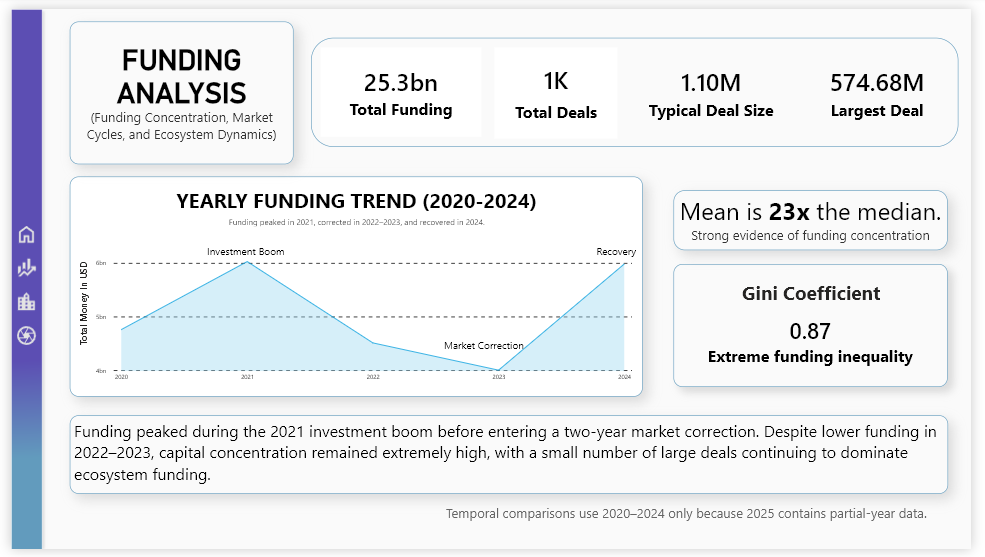

The dashboard page shown, as its layout file describes it:
{"tool":"powerbi","page":{"name":"Overview","canvas":[1280,720],"ordinal":0},"visuals":[{"type":"lineChart","title":"YEARLY FUNDING TREND (2020-2024)","fields":{"Category":["investor_funding.Date.Variation.Date Hierarchy.Year","investor_funding.Date.Variation.Date Hierarchy.Quarter","investor_funding.Date.Variation.Date Hierarchy.Month","investor_funding.Date.Variation.Date Hierarchy.Day"],"Y":["Sum(investor_funding.InvestmentAmount_USD)"]},"box":[77.5,223.8,763.8,293.8],"z":0},{"type":"cardVisual","title":"Total Deals (2020-2024)","fields":{"Data":["investor_funding.Total Deals"]},"box":[631,38.8,190,147.1],"z":1000,"group":"g1"},{"type":"textbox","box":[77.5,541.2,1171.2,105],"z":1000},{"type":"cardVisual","title":"Total Funding (2020-2024)","fields":{"Data":["investor_funding.USD"]},"box":[400,38.8,240,145.7],"z":2000,"group":"g1"},{"type":"cardVisual","title":"Gini Coefficient","fields":{"Data":["investor_funding.Gini Coefficient"]},"box":[882.9,340,365.7,164.3],"z":2000},{"type":"textbox","box":[574.3,655.7,654.3,45.7],"z":3000},{"type":"cardVisual","title":"Median Deal Size (2020-2024)","fields":{"Data":["investor_funding.Deal Size"]},"box":[811.7,38.6,244.2,147.5],"z":4000,"group":"g1"},{"type":"textbox","box":[882.9,241.4,365.7,80],"z":4000},{"type":"cardVisual","title":"Largest Deal (2020-2024)","fields":{"Data":["investor_funding.Deal"]},"box":[1048.8,39,213.8,146.2],"z":5000,"group":"g1"},{"type":"actionButton","box":[0,365.2,41.4,50],"z":5000},{"type":"shape","box":[400,38.6,862.9,145.7],"z":6000},{"type":"textbox","box":[236,310,153,30],"z":7000},{"type":"textbox","box":[773.8,310,67.5,30],"z":8000},{"type":"textbox","box":[572,435,118,33],"z":9000},{"type":"textbox","box":[77.5,16.2,298.8,190],"z":10000},{"type":"actionButton","box":[0,320.5,41.4,50],"z":11000},{"type":"actionButton","box":[0,275.7,41.4,50],"z":12000},{"type":"actionButton","box":[0,410,41.4,50],"z":13000},{"type":"group","id":"g1","title":"Group 1","box":[400,38.6,862.9,147.1],"z":14000}]}

Visuals, with their boxes in screenshot pixels (x1, y1, x2, y2), scaled from the page's 1280x720 canvas onto the 985x557 screenshot:
"YEARLY FUNDING TREND (2020-2024)" lineChart: crop(60, 173, 647, 400)
"Total Deals (2020-2024)" cardVisual: crop(486, 30, 632, 144)
textbox: crop(60, 419, 961, 500)
"Total Funding (2020-2024)" cardVisual: crop(308, 30, 492, 143)
"Gini Coefficient" cardVisual: crop(679, 263, 961, 390)
textbox: crop(442, 507, 945, 543)
"Median Deal Size (2020-2024)" cardVisual: crop(625, 30, 813, 144)
textbox: crop(679, 187, 961, 249)
"Largest Deal (2020-2024)" cardVisual: crop(807, 30, 972, 143)
actionButton: crop(0, 283, 32, 321)
shape: crop(308, 30, 972, 143)
textbox: crop(182, 240, 299, 263)
textbox: crop(595, 240, 647, 263)
textbox: crop(440, 337, 531, 362)
textbox: crop(60, 13, 290, 160)
actionButton: crop(0, 248, 32, 287)
actionButton: crop(0, 213, 32, 252)
actionButton: crop(0, 317, 32, 356)
"Group 1" group: crop(308, 30, 972, 144)
